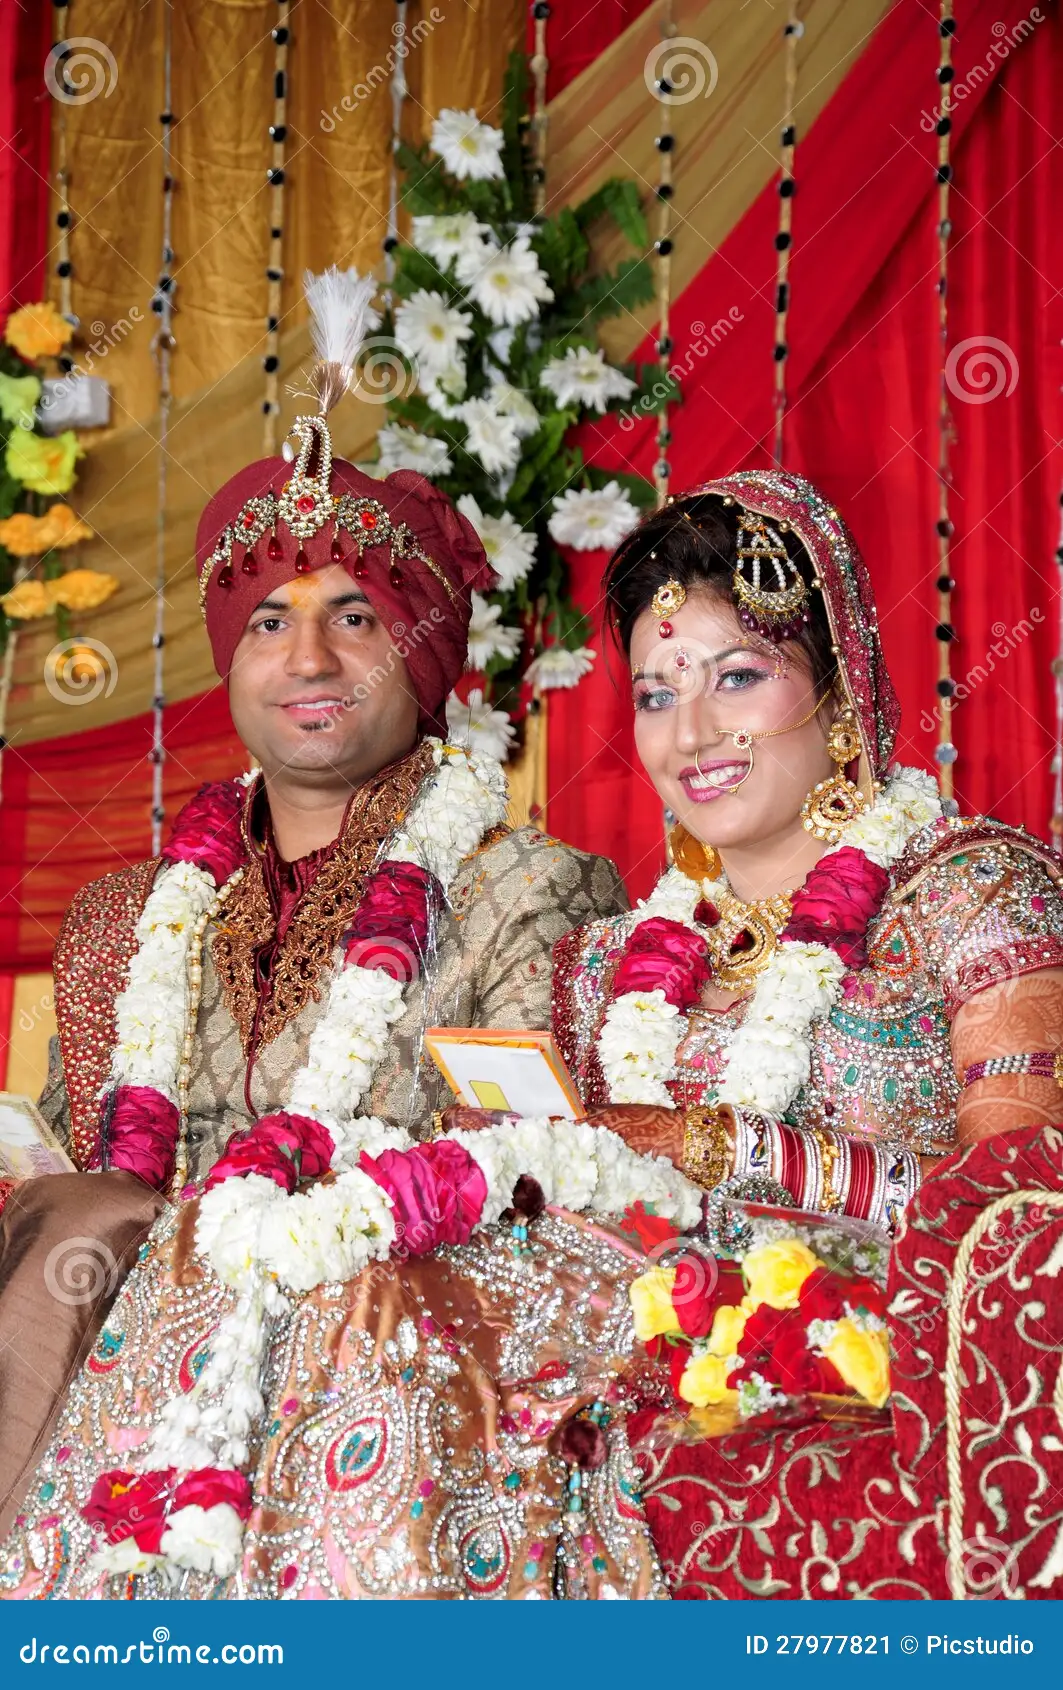men: (163, 437, 482, 801)
women: (589, 473, 931, 897)
